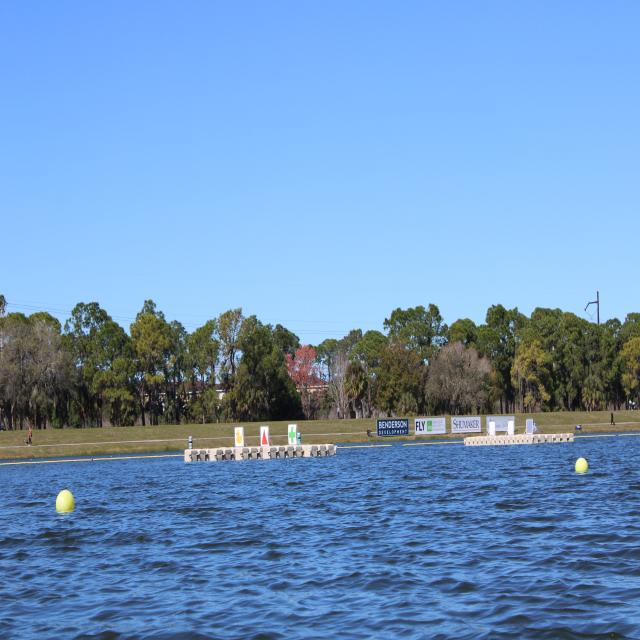blue-cross: (286, 424, 298, 446)
red-dot: (260, 429, 270, 450)
yellow-buoy: (56, 490, 76, 513), (574, 460, 588, 476)
yellow-duck: (234, 427, 244, 448)
